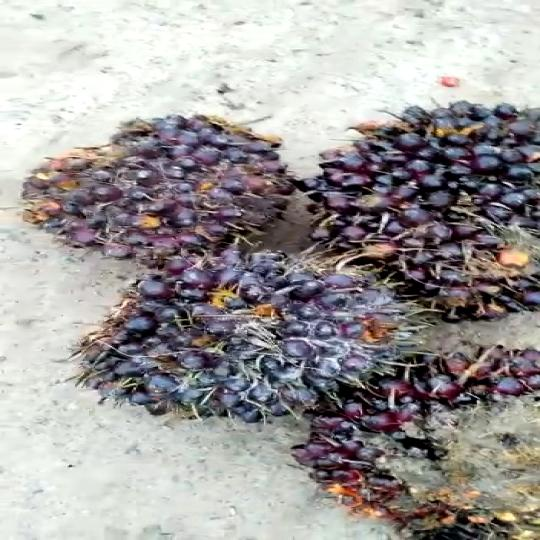kurang masak: (78, 244, 382, 419), (314, 94, 540, 316), (297, 339, 540, 540), (19, 115, 326, 248)
